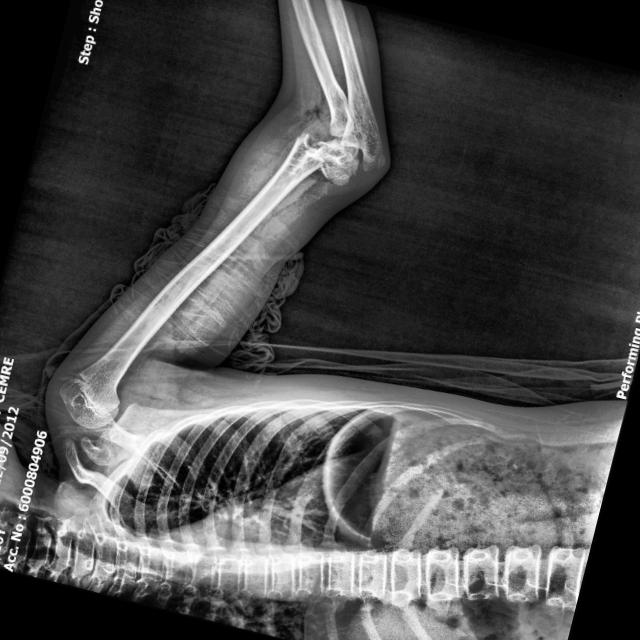Fracture: (256, 73, 402, 209)
